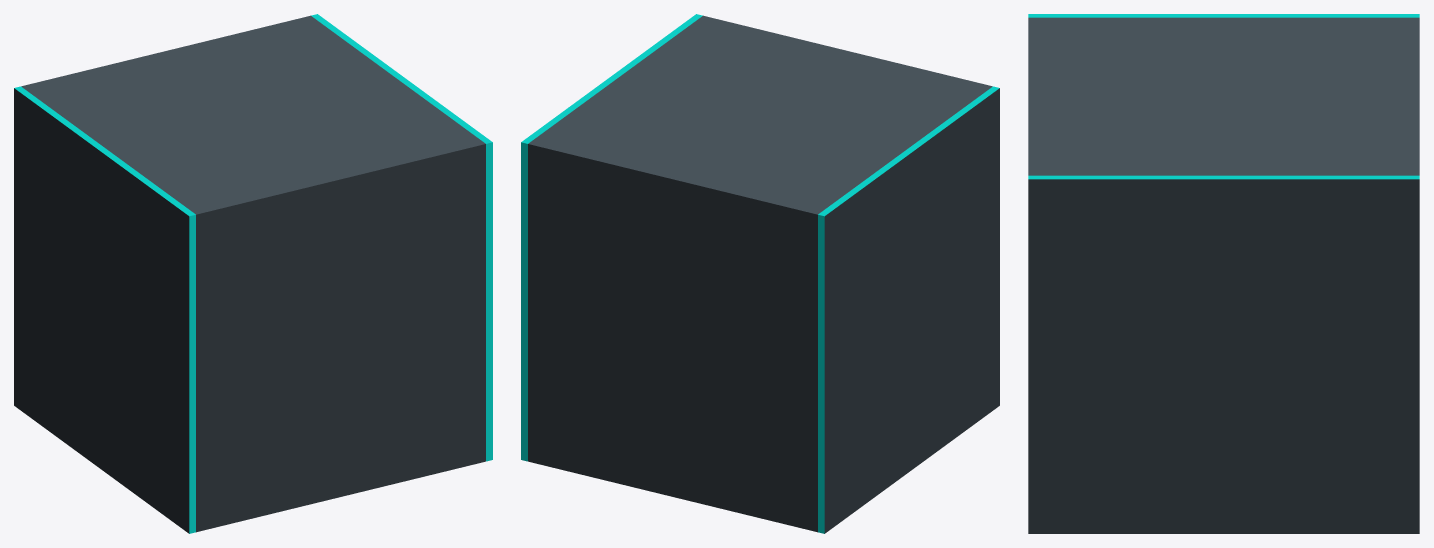
Rendered from LevelTile01.fbx.
3 views of the same model, side by side, from view 1: azimuth 30°, elevation 25°; view 2: azimuth 150°, elevation 25°; view 3: azimuth 270°, elevation 25° (orthographic). The views are drawn at different scales.
Parts seen in each view (by area): view 1: pCube1; view 2: pCube1; view 3: pCube1.
Boxes of the visible parts, left/top/right/bottom form: pCube1: left=14, top=14, right=492, bottom=533; pCube1: left=521, top=14, right=999, bottom=533; pCube1: left=1028, top=14, right=1419, bottom=533.
Bounding box in the file's own units: 200 × 200 × 200.
